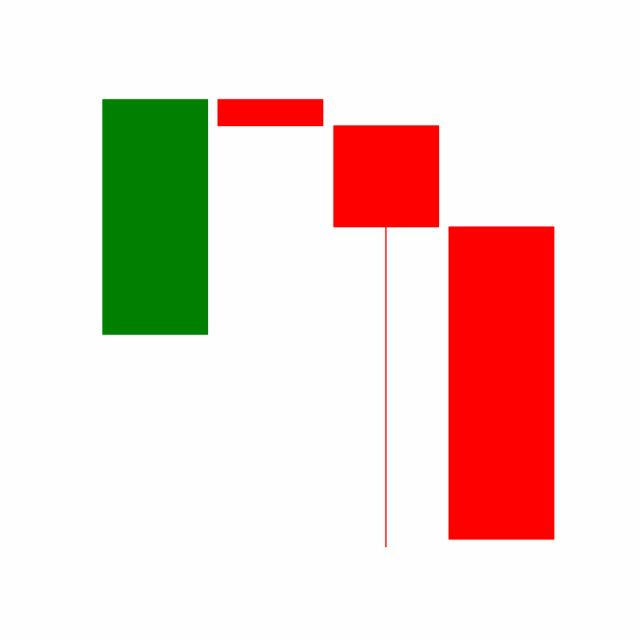Hammer: (328, 119, 444, 552)
